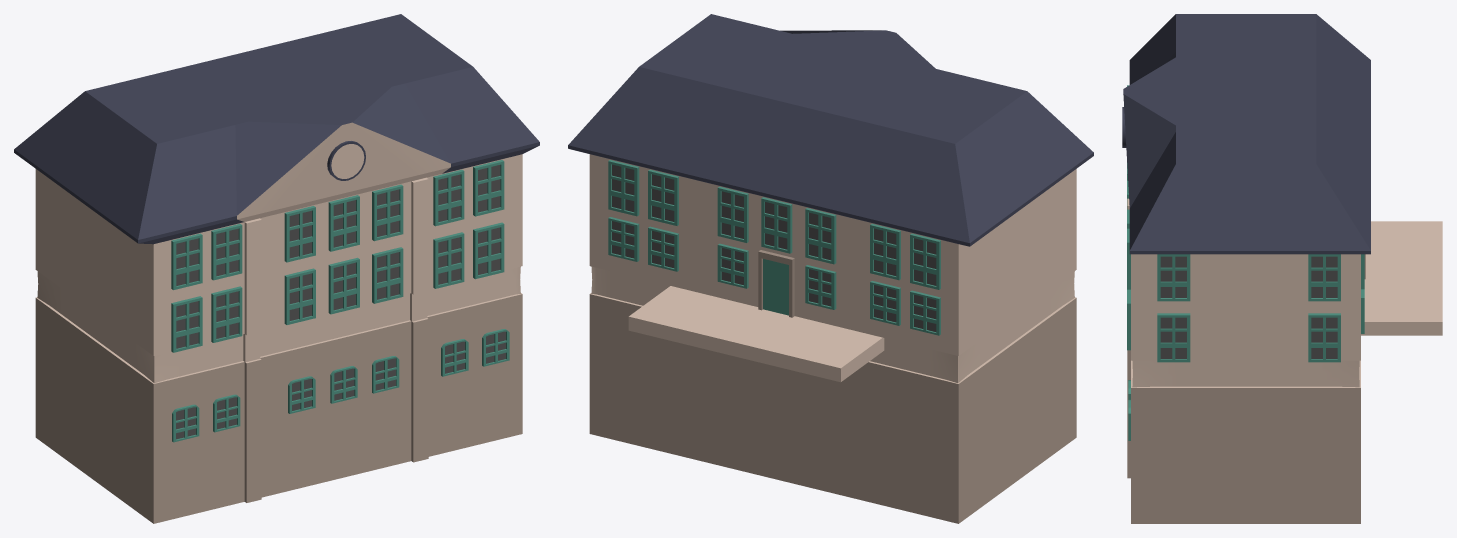
The model's file is Birger Jarls torg02.fbx.
3 views of the same model, side by side, from view 1: azimuth 30°, elevation 25°; view 2: azimuth 150°, elevation 25°; view 3: azimuth 270°, elevation 25° (orthographic). The views are drawn at different scales.
Parts seen in each view (by area): view 1: group2_pCube11; view 2: group2_pCube11; view 3: group2_pCube11.
Boxes of the visible parts, bbox=[...] form: group2_pCube11: bbox=[14, 14, 539, 523]; group2_pCube11: bbox=[568, 14, 1093, 523]; group2_pCube11: bbox=[1122, 14, 1442, 523].
Size of the model in its own units: 191 by 162 by 136.
